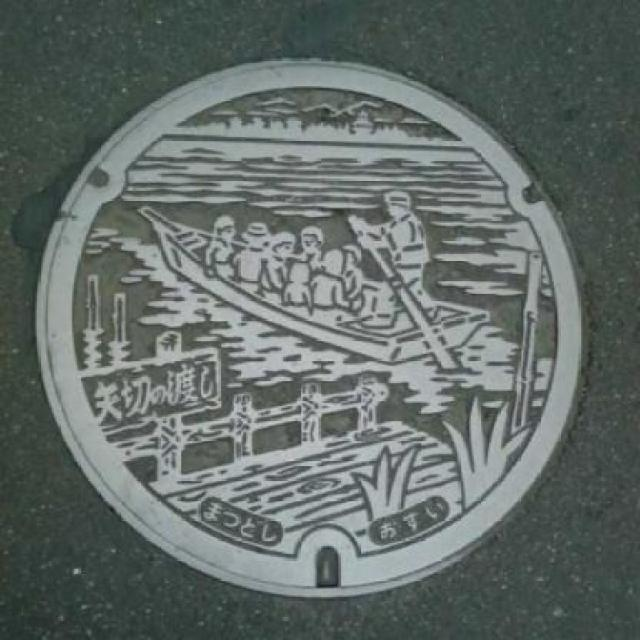Manhole: (20, 40, 598, 612)
